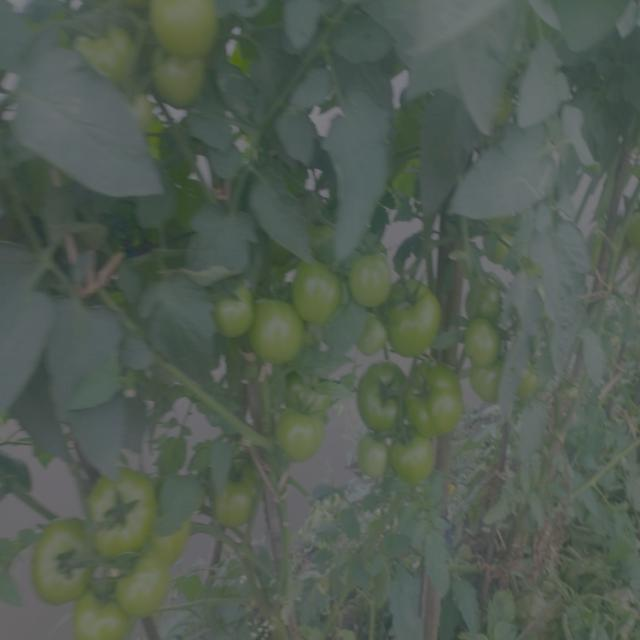tomato: (82, 466, 157, 554), (32, 524, 95, 603), (387, 279, 446, 362), (407, 362, 468, 438), (153, 1, 227, 63), (270, 393, 329, 468), (73, 23, 147, 82), (110, 556, 179, 614), (209, 459, 262, 533), (295, 257, 347, 326), (352, 364, 403, 432), (348, 240, 395, 310), (260, 298, 302, 366), (394, 435, 443, 492), (69, 594, 128, 640), (462, 321, 510, 369), (158, 63, 209, 107), (350, 434, 394, 485), (214, 288, 256, 339), (470, 364, 509, 410), (150, 523, 195, 559), (469, 279, 507, 320), (515, 359, 550, 401), (355, 320, 388, 360), (134, 99, 162, 139), (563, 377, 588, 407)
